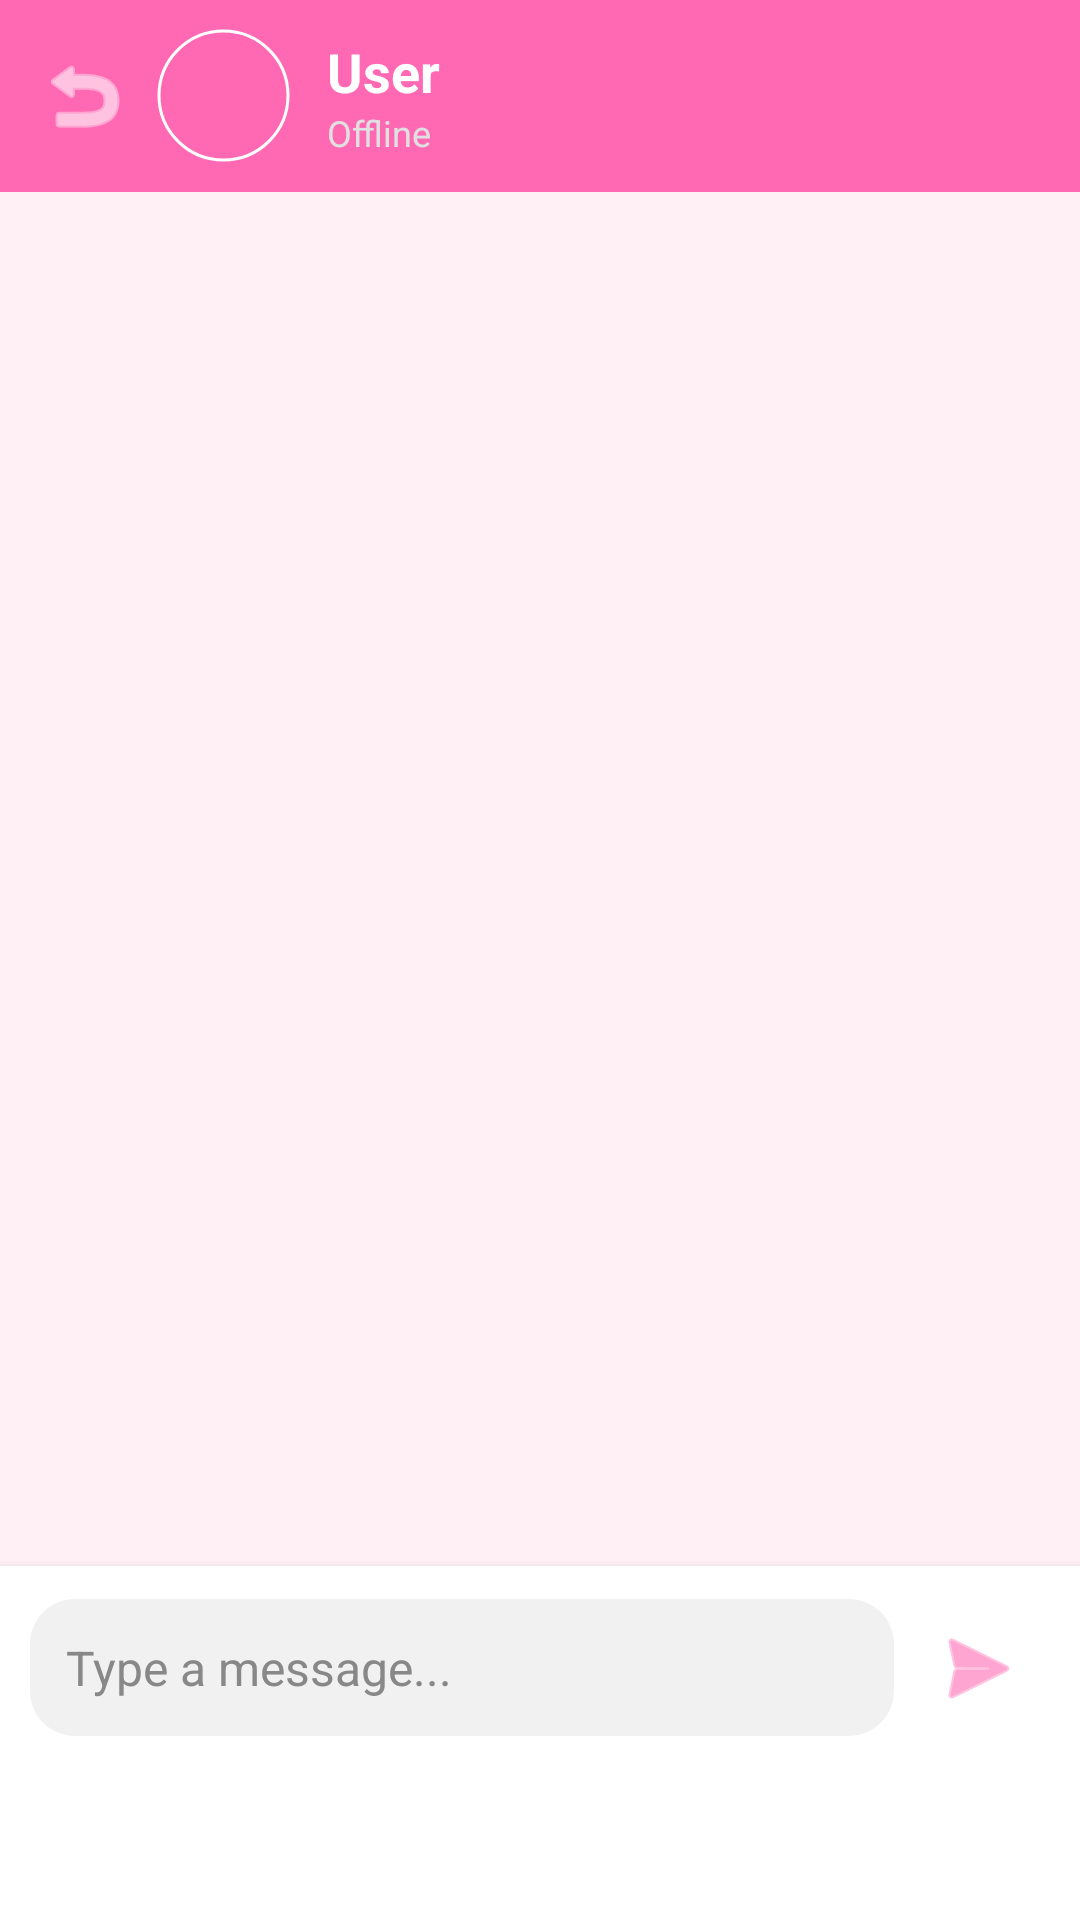

Icon click points for this 1080×1920 phone screenshot, format point (x, y):
Back: point (85, 97)
Send: point (978, 1668)
